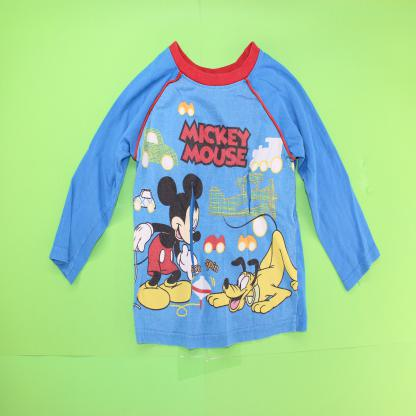hole: (188, 176, 199, 280), (244, 160, 254, 220)
